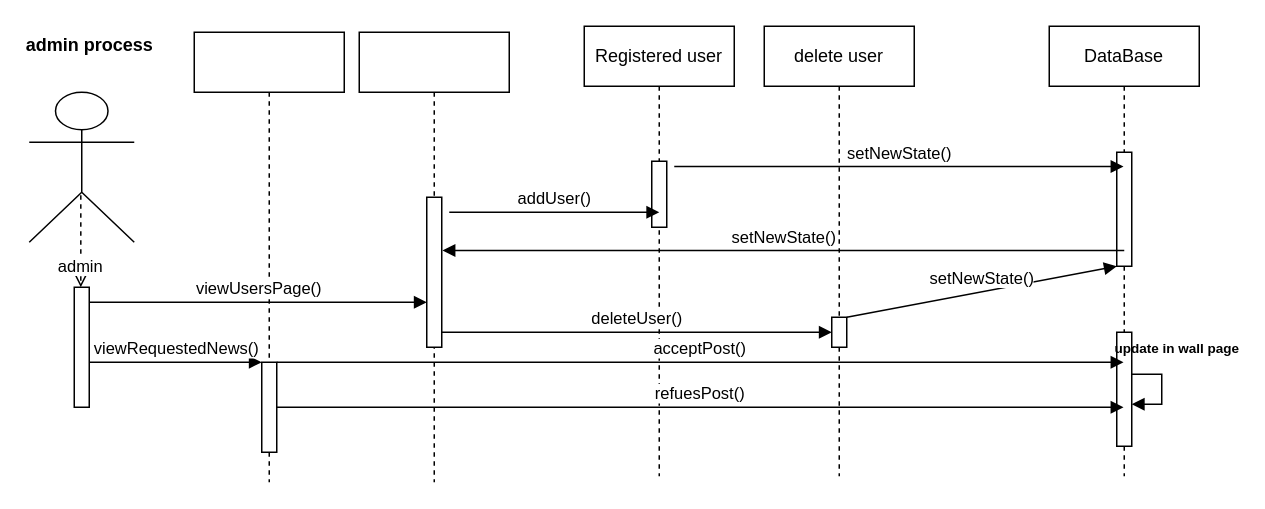
Some shapes in this 1265 by 509 pixel diagram are drawn without their labels. Each missing label, with the box of its shape:
show new posts: (193, 31, 344, 482)
users view interface: (358, 31, 509, 482)
